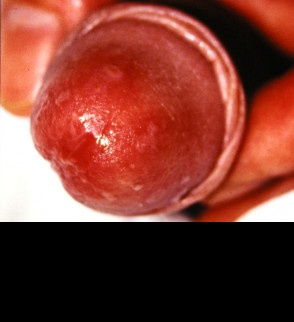SJS-TEN: (17, 0, 261, 231)
